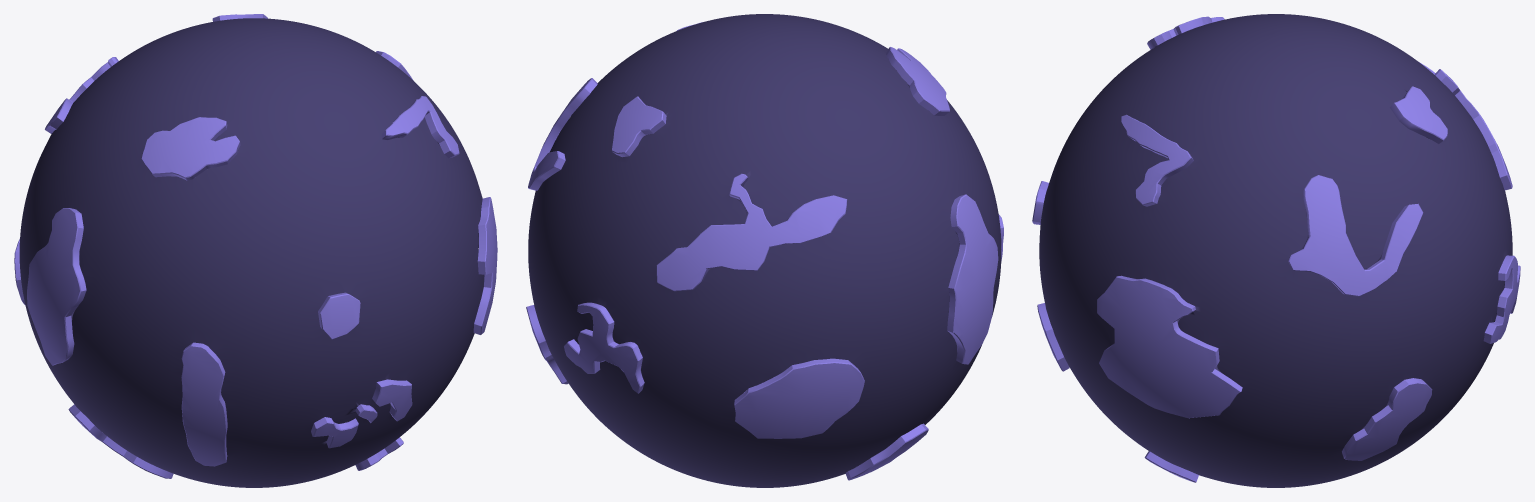
The model's file is 2nd World.fbx.
The picture shows the model from 3 angles, left to right: view 1: azimuth 30°, elevation 25°; view 2: azimuth 150°, elevation 25°; view 3: azimuth 270°, elevation 25°; orthographic projection.
Visible parts, largest first — view 1: Base Planetr, Landmark.001, Landmark.014, Landmark.005, Landmark.007, Landmark.015, Landmark.002, Landmark.006, Landmark.004, Landmark.010; view 2: Base Planetr, Landmark.010, Landmark.003, Landmark.001, Landmark.011, Landmark.005, Landmark.013, Landmark.008, Landmark.004, Landmark.009; view 3: Base Planetr, Landmark.015, Landmark.008, Landmark.009, Landmark.002, Landmark.013, Landmark.011, Landmark.010, Landmark.007, Landmark.005, Landmark.012.
Boxes of the visible parts, box(x1,y1,x2,y2) form: Base Planetr: box(19, 18, 484, 487); Landmark.001: box(27, 208, 86, 365); Landmark.014: box(181, 342, 227, 466); Landmark.005: box(141, 117, 240, 180); Landmark.007: box(311, 379, 412, 448); Landmark.015: box(473, 197, 497, 334); Landmark.002: box(381, 96, 459, 158); Landmark.006: box(318, 292, 360, 339); Landmark.004: box(68, 404, 173, 478); Landmark.010: box(45, 57, 118, 133); Base Planetr: box(528, 14, 1001, 487); Landmark.010: box(656, 173, 847, 291); Landmark.003: box(734, 358, 864, 438); Landmark.001: box(947, 194, 998, 364); Landmark.011: box(564, 302, 644, 393); Landmark.005: box(886, 47, 949, 115); Landmark.013: box(611, 96, 666, 157); Landmark.008: box(528, 78, 597, 190); Landmark.004: box(845, 423, 928, 480); Landmark.009: box(526, 305, 568, 384); Base Planetr: box(1039, 14, 1512, 487); Landmark.015: box(1097, 275, 1242, 418); Landmark.008: box(1288, 175, 1423, 296); Landmark.009: box(1342, 378, 1432, 460); Landmark.002: box(1121, 114, 1193, 206); Landmark.013: box(1390, 86, 1447, 143); Landmark.011: box(1483, 255, 1520, 343); Landmark.010: box(1419, 62, 1512, 190); Landmark.007: box(1037, 303, 1069, 371); Landmark.005: box(1147, 16, 1224, 49); Landmark.012: box(1144, 451, 1198, 482).
Bounding box in the file's own units: 204 × 200 × 206.
